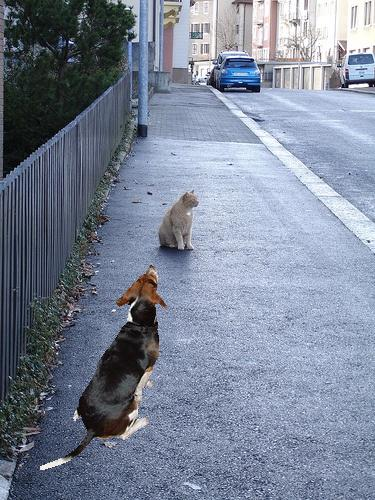tampered: (40, 266, 167, 470)
